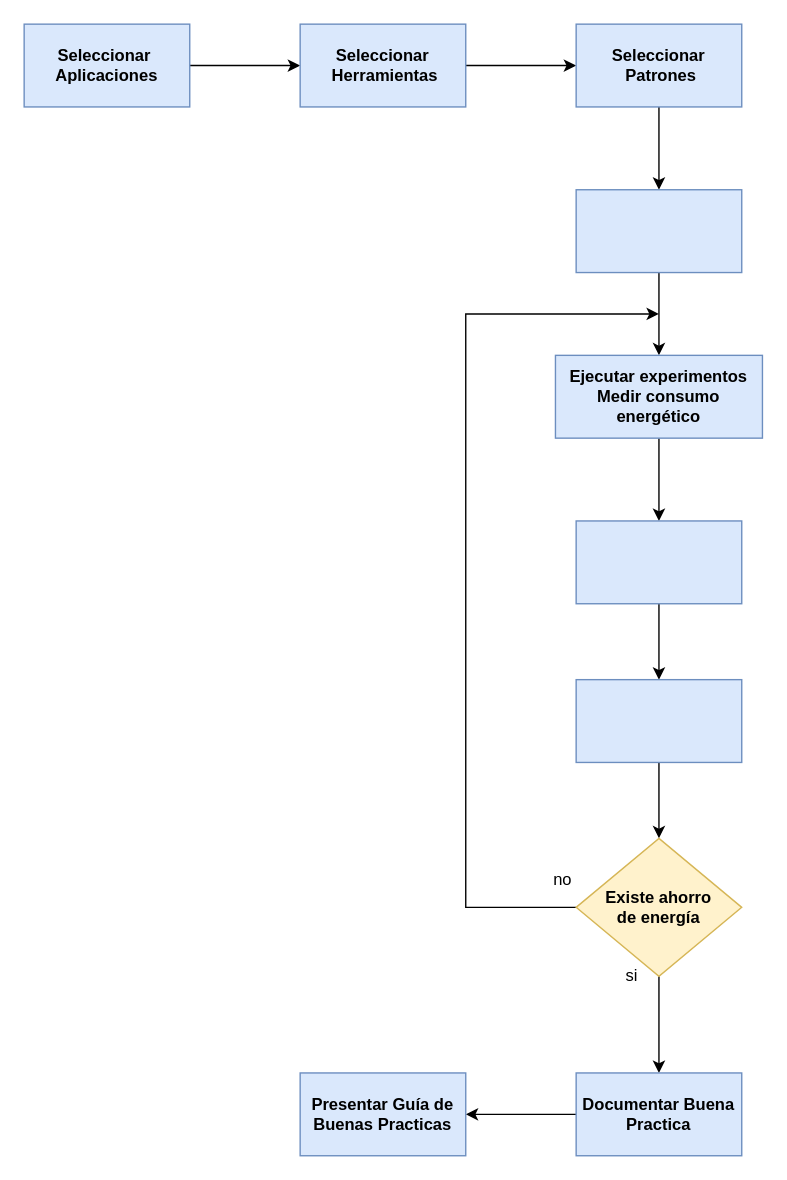
Some shapes in this 787 by 1180 pixel diagram are drawn without their labels. Here are the shapes that lost their labels. From the top down, the centre of each, then its label:
At (658,230): "Definir escenarios de prueba".
At (658,562): "Refactorizar aplicación".
At (658,720): "Analizar resultados".
